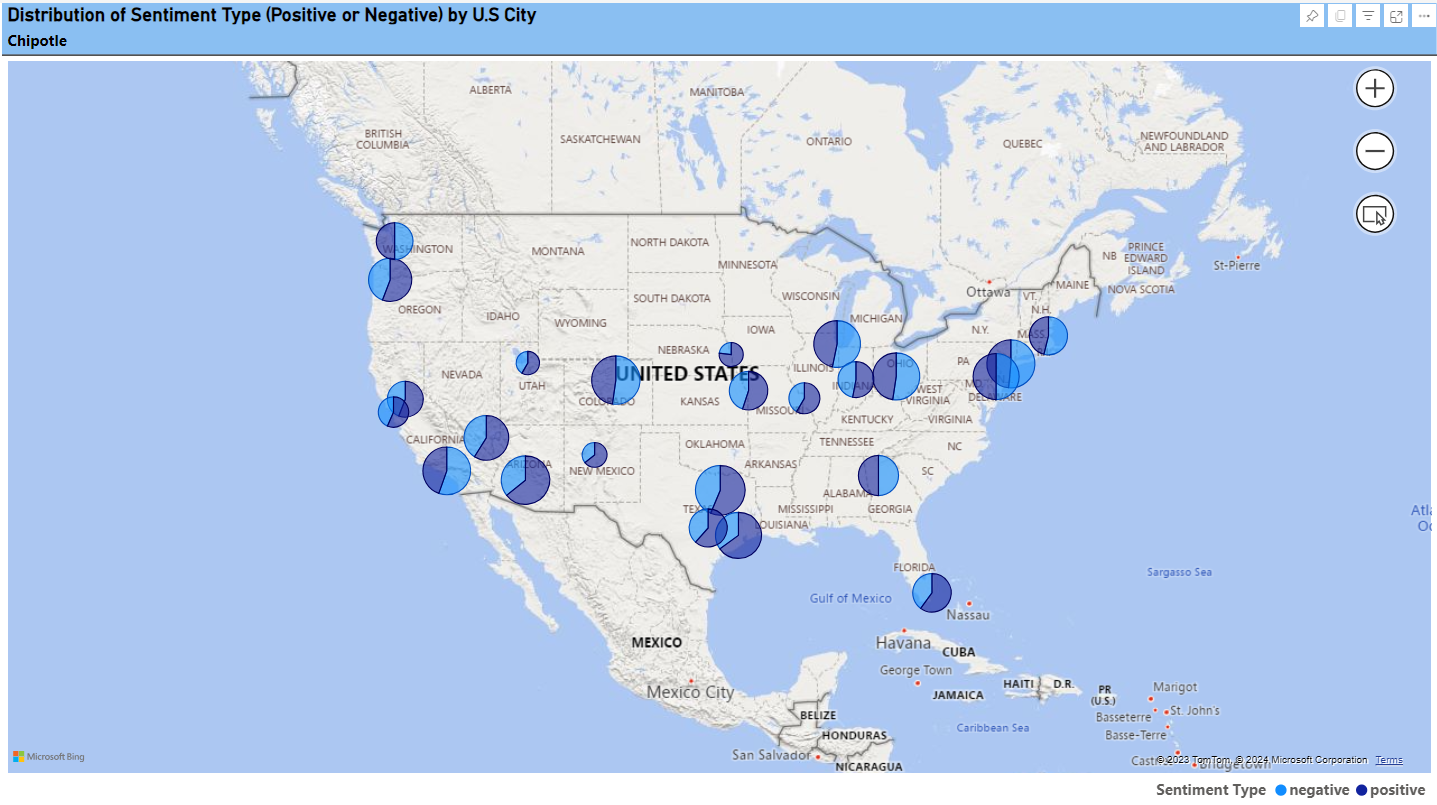

The page's visual inventory and layout, read from the dashboard file:
{"tool":"powerbi","page":{"name":"Map - Sentiment Type","canvas":[1280,720],"ordinal":0},"visuals":[{"type":"map","title":"Distribution of Sentiment Type (Positive or Negative) by U.S City ","fields":{"Category":["Sentiment_Analysis.Store_City"],"Series":["Sentiment_Analysis.sentiment_category_vader"],"Size":["CountNonNull(Sentiment_Analysis.sentiment_category_vader)"]},"box":[0,0,1280,720],"z":0}]}

Visuals, with their boxes on the page's 1280x720 design canvas (x1, y1, x2, y2). These are canvas units, not pixel positions in the 1437x805 screenshot, which may show the page scaled, cropped or inside an application window:
"Distribution of Sentiment Type (Positive or Negative) by U.S City " map: l=0, t=0, r=1280, b=720
